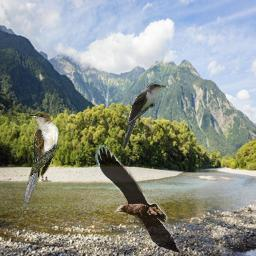Crow: (95, 145, 181, 255)
Cuckoo: (22, 112, 60, 205), (121, 82, 166, 149)
